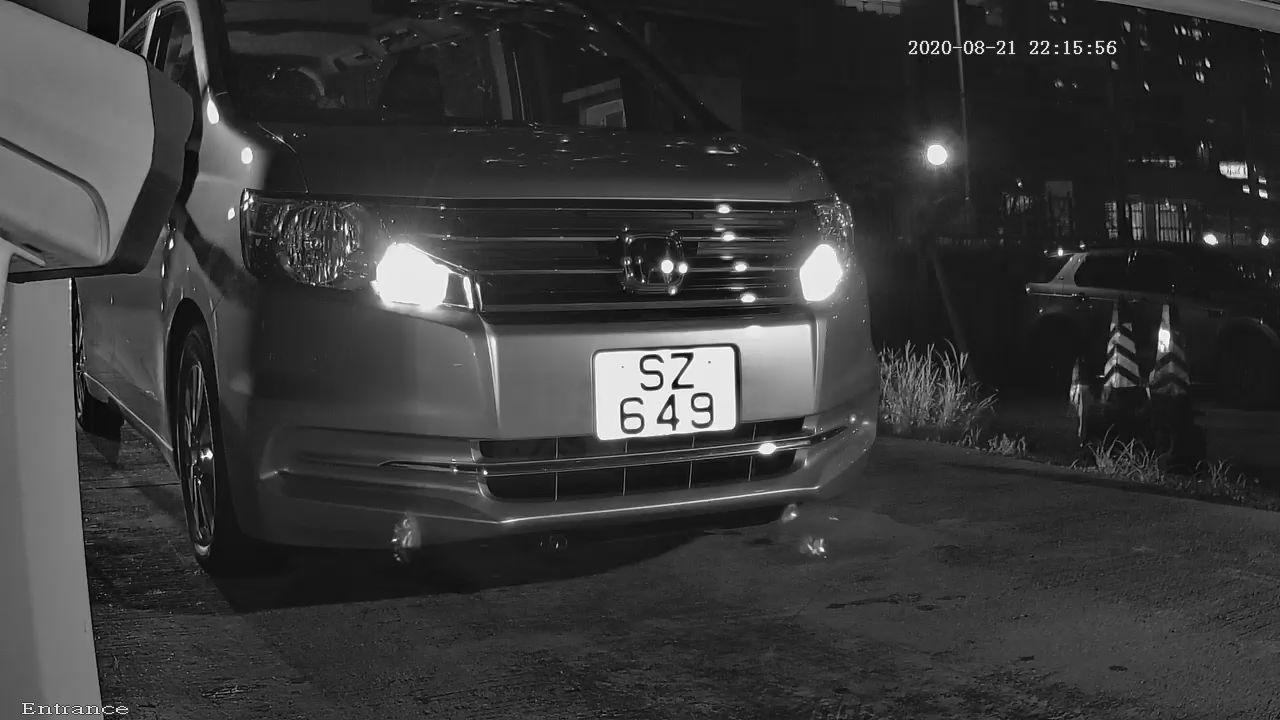Car: (63, 10, 949, 621)
License Plate: (578, 341, 755, 451)
